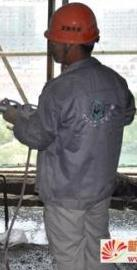gloves: (2, 101, 19, 122)
hard-hat: (43, 1, 99, 43)
ppe-suit: (10, 54, 136, 270)
